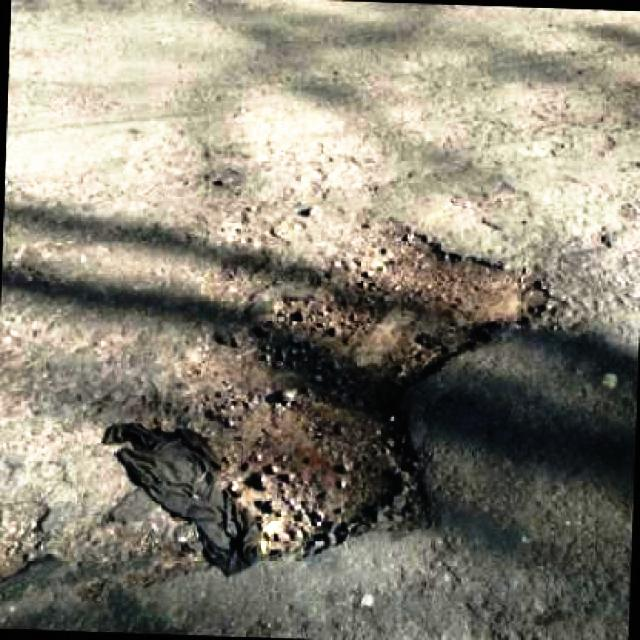pothole: (142, 224, 564, 570), (0, 491, 57, 580)
